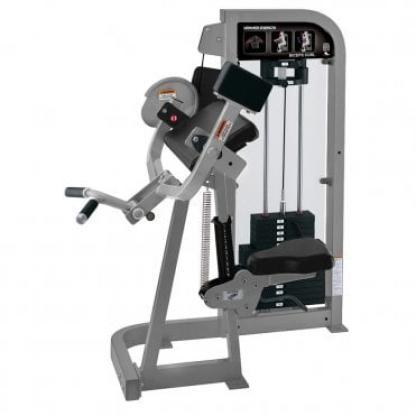arm curl machine: (66, 10, 350, 401)
